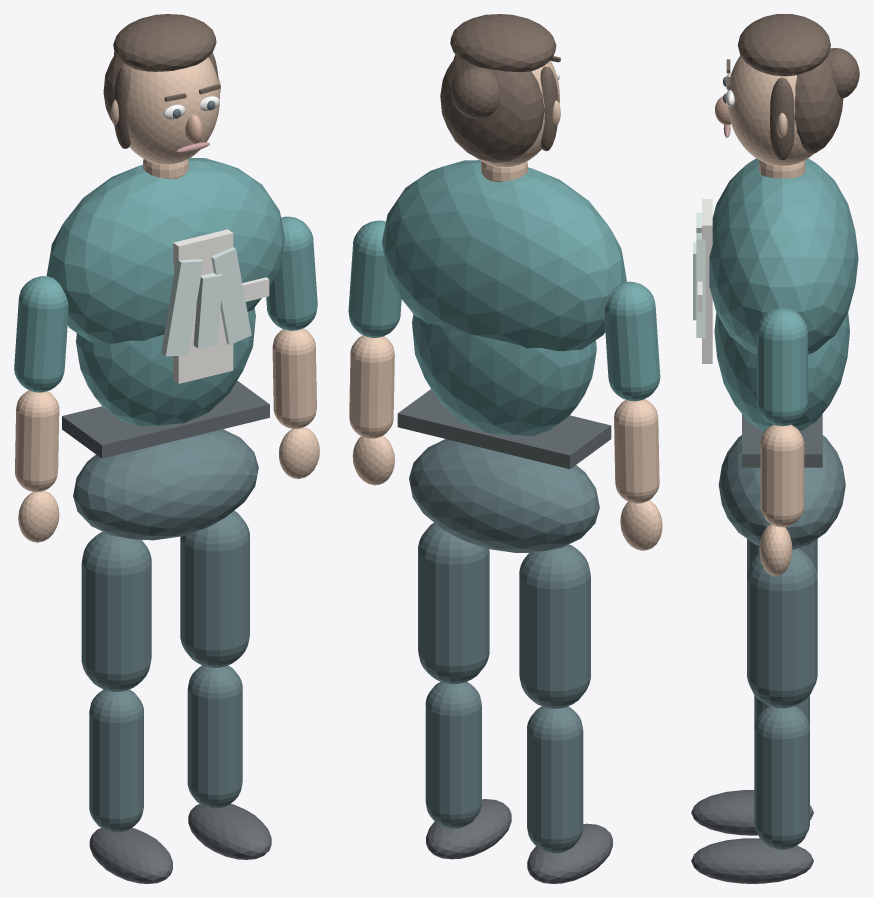
The model's file is receptionist.glb.
3 renders of one model, left to right at view 1: azimuth 30°, elevation 25°; view 2: azimuth 150°, elevation 25°; view 3: azimuth 270°, elevation 25°, orthographic. The views are drawn at different scales.
Visible parts, largest first — view 1: Chest, Hips, LeftUpLeg, Spine, RightUpLeg, RightLeg, LeftLeg, Head, Belt, LeftArm, HairTop, RightArm (+13 smaller); view 2: Chest, Hips, Spine, LeftUpLeg, RightUpLeg, LeftLeg, RightLeg, HairBack, Belt, LeftArm, HairTop, RightArm (+10 smaller); view 3: Chest, RightUpLeg, RightLeg, Hips, Spine, RightArm, HairTop, Head, RightForeArm, RightFoot, HairBack, LeftFoot (+9 smaller).
Part boxes in pixels (box(x1,y1,x2,y2)): Chest: box(46, 157, 284, 343); Hips: box(73, 429, 258, 540); LeftUpLeg: box(81, 532, 151, 691); Spine: box(76, 308, 255, 426); RightUpLeg: box(180, 510, 249, 667); RightLeg: box(187, 665, 242, 808); LeftLeg: box(89, 689, 143, 832); Head: box(122, 57, 219, 164); Belt: box(62, 380, 269, 458); LeftArm: box(14, 276, 68, 392); HairTop: box(113, 14, 216, 71); RightArm: box(266, 216, 317, 330); Chest: box(382, 160, 626, 351); Hips: box(409, 439, 599, 552); Spine: box(412, 314, 596, 435); LeftUpLeg: box(519, 544, 590, 708); RightUpLeg: box(418, 522, 489, 684); LeftLeg: box(527, 706, 583, 853); RightLeg: box(425, 681, 481, 828); HairBack: box(440, 56, 544, 162); Belt: box(397, 389, 611, 468); LeftArm: box(604, 281, 660, 401); HairTop: box(450, 14, 556, 72); RightArm: box(348, 220, 401, 337); Chest: box(709, 158, 858, 354); RightUpLeg: box(747, 548, 817, 708); RightLeg: box(754, 706, 809, 849); Hips: box(718, 435, 845, 549); Spine: box(714, 313, 849, 431); RightArm: box(756, 308, 807, 426); HairTop: box(738, 14, 830, 76); Head: box(727, 55, 813, 166); RightForeArm: box(760, 424, 804, 527); RightFoot: box(691, 838, 813, 883); HairBack: box(794, 55, 843, 153); LeftFoot: box(691, 790, 813, 835).
Size of the model in its own units: 0.8174 by 2.16 by 0.398.
